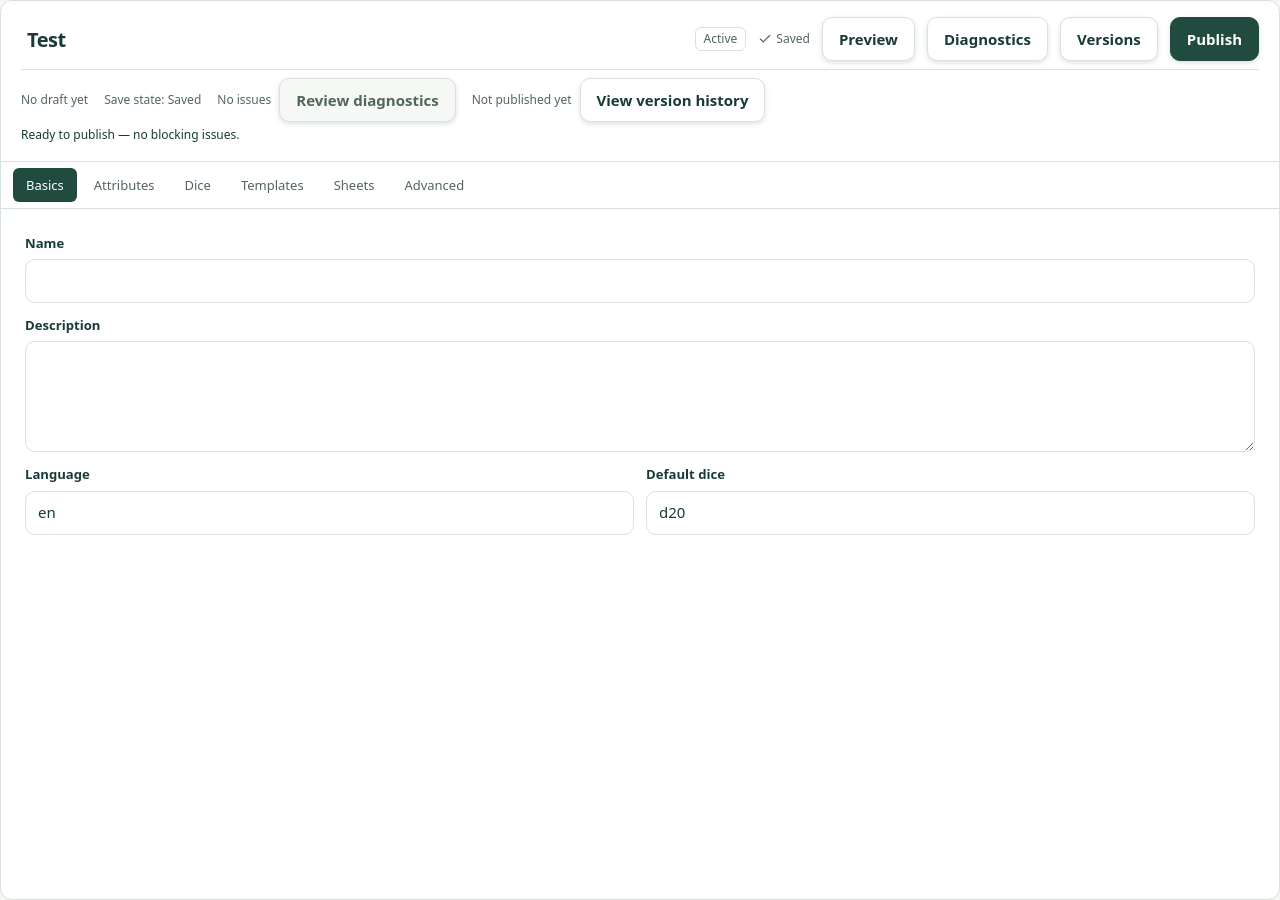
Test case: DocumentEditor › updates the visible published version as soon as publishing succeeds
expect the list item "Not published yet View version history" is shown: met, box x1=472 y1=78 x2=766 y2=122
What coordinates should you click on to do the following:
click the button with test id "document-editor-publish"
I would click on:
 (1214, 39)
Its box is x1=1170 y1=17 x2=1259 y2=61.
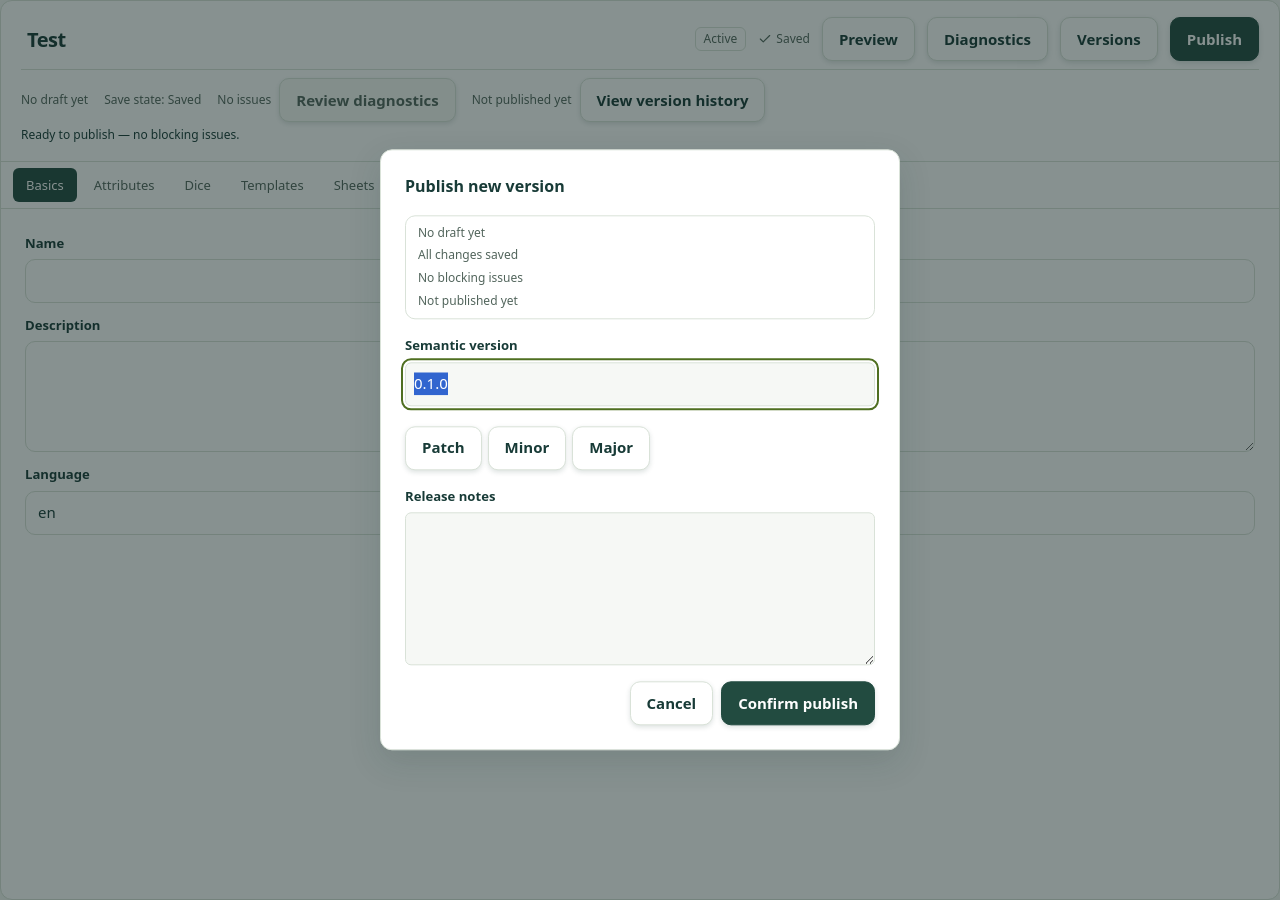
What coordinates should you click on to do the following:
click the button with test id "publish-dialog-submit"
I would click on:
 (798, 704)
Its box is x1=721 y1=682 x2=875 y2=726.
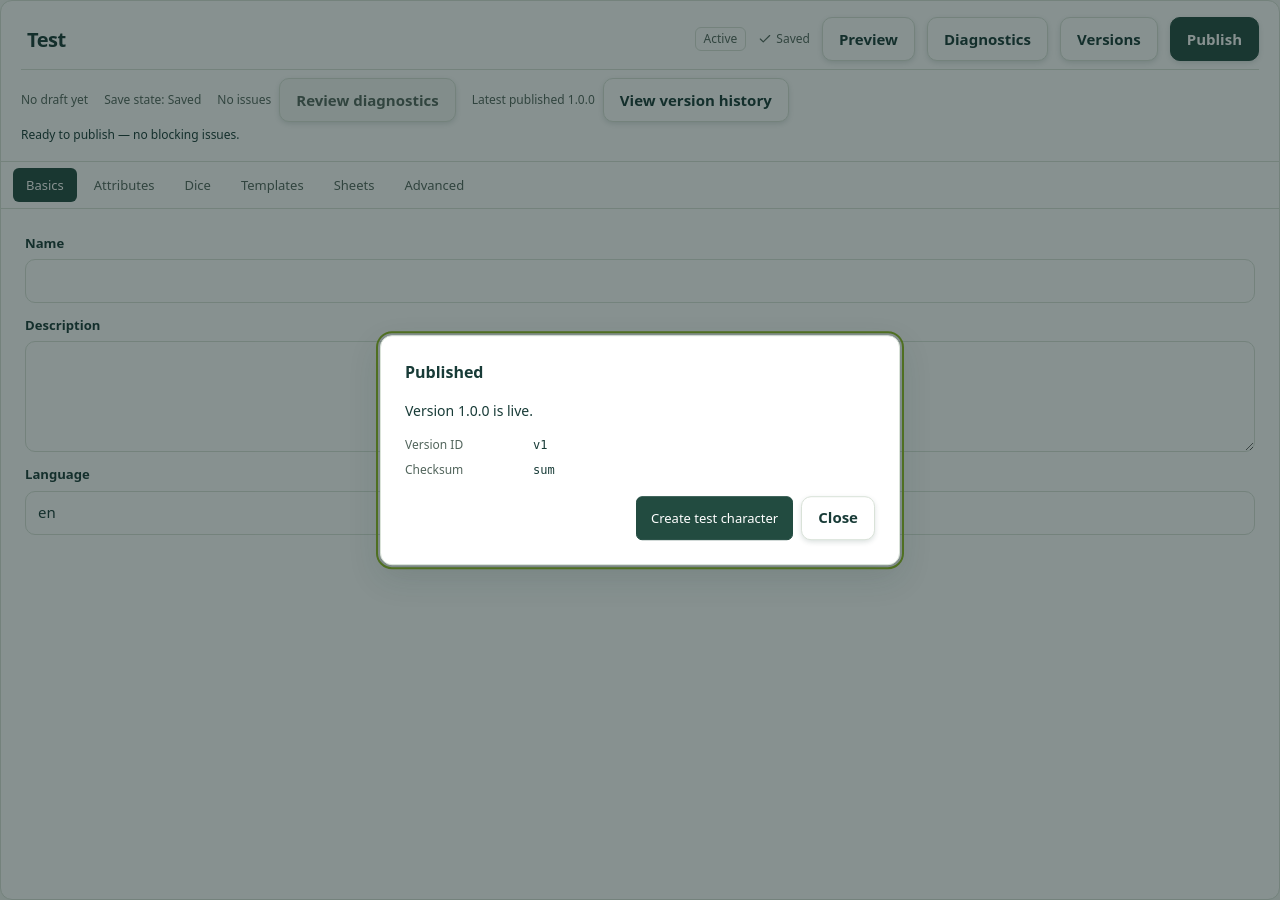
expect the dialog with test id "publish-dialog-success" is shown: met, box x1=380 y1=335 x2=900 y2=565
expect the list item "Latest published 1.0.0 View version history" is shown: met, box x1=472 y1=78 x2=789 y2=122
